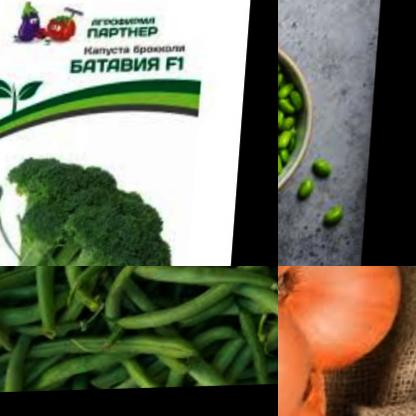beans: (0, 266, 278, 397), (278, 36, 331, 218), (320, 197, 353, 232), (313, 158, 340, 181), (299, 180, 319, 202)
broccoli: (0, 151, 202, 266)
onion: (278, 266, 416, 383), (278, 288, 323, 416)
